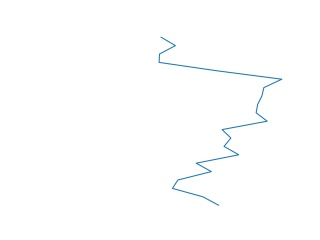floodPlain: (158, 36, 285, 210)
